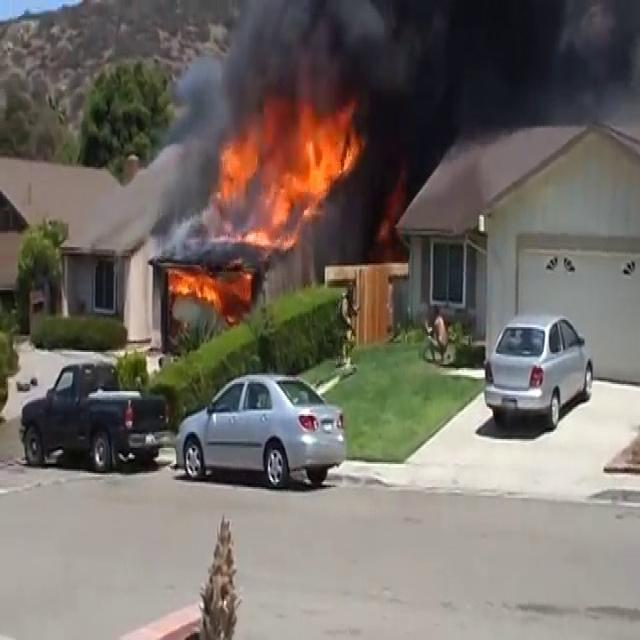Fire: (211, 100, 362, 247), (164, 260, 223, 320)
Smoke: (166, 0, 640, 167)
